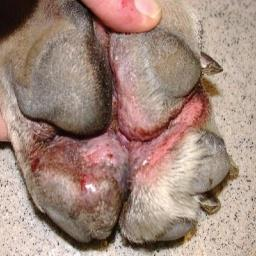pyoderma: (32, 126, 126, 189), (125, 116, 179, 183), (155, 99, 213, 146)
